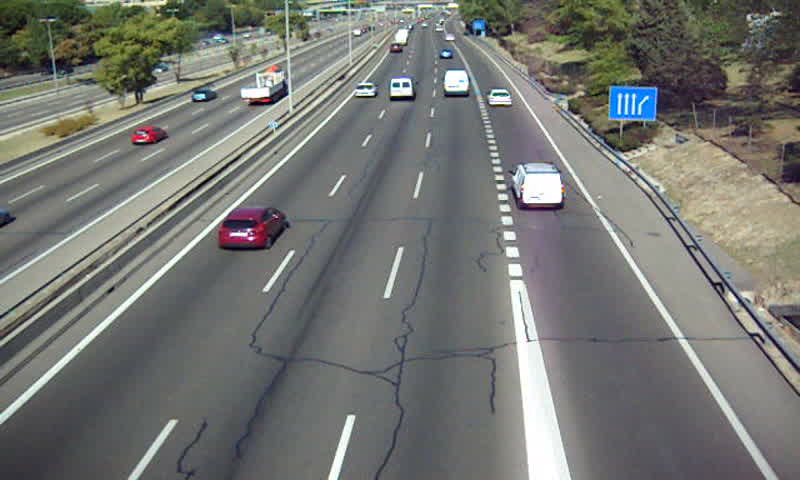car: (217, 206, 286, 248), (486, 88, 513, 106), (355, 82, 377, 98)
van: (515, 163, 563, 209), (443, 69, 471, 96), (389, 78, 417, 102)
